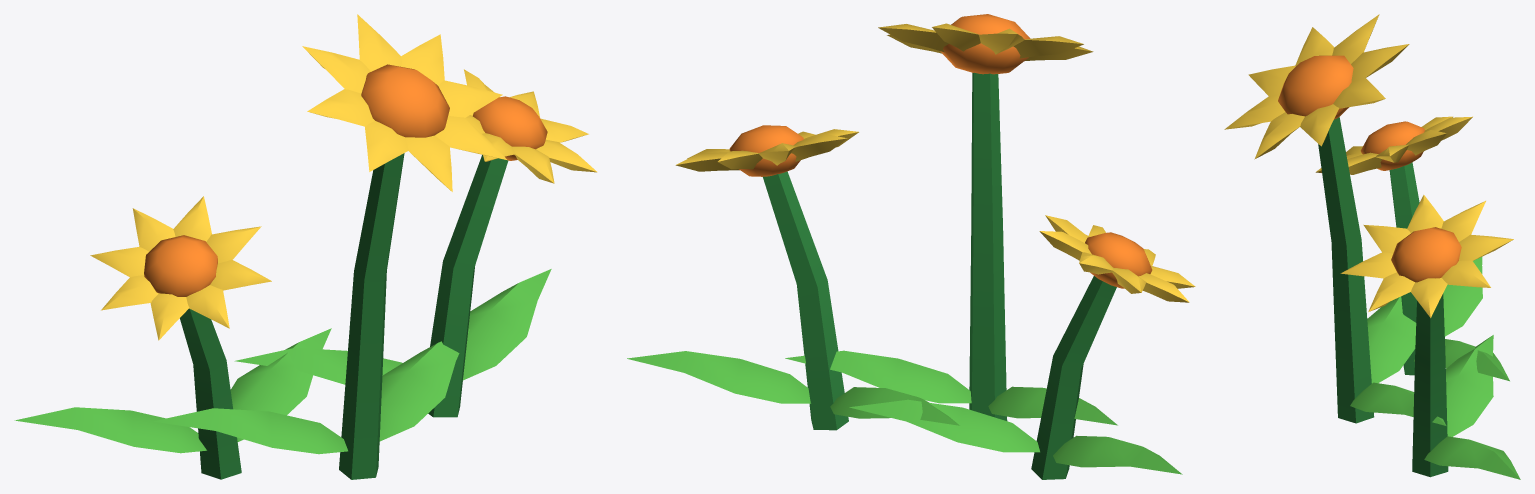
The model's file is flower_yellow.glb.
3 renders of one model, left to right at view 1: azimuth 30°, elevation 25°; view 2: azimuth 150°, elevation 25°; view 3: azimuth 270°, elevation 25°, orthographic. The views are drawn at different scales.
Parts seen in each view (by area): view 1: flower_yellow; view 2: flower_yellow; view 3: flower_yellow.
Boxes of the visible parts, box(x1,y1,x2,y2) form: flower_yellow: box(14, 14, 597, 479); flower_yellow: box(627, 14, 1195, 479); flower_yellow: box(1224, 14, 1520, 479).
Bounding box in the file's own units: 0.5444 × 0.3993 × 0.28.
